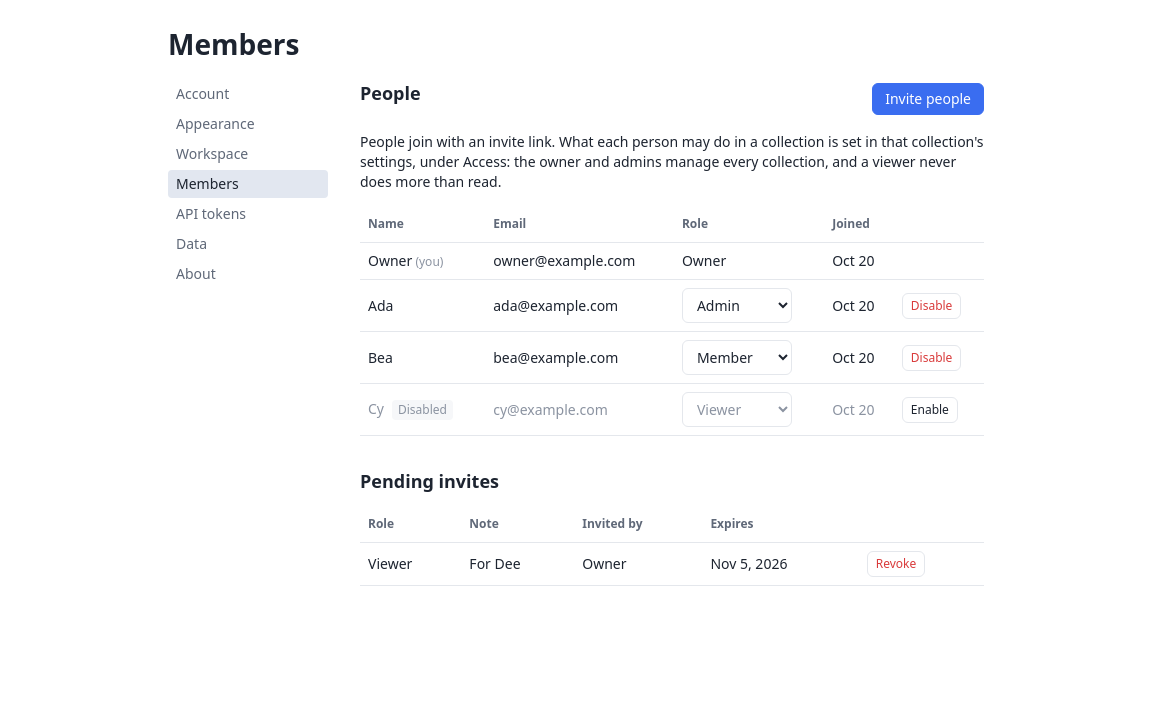
Test: Settings → Members › pending invites can be revoked after a confirmation
The width and height of the screenshot is (1152, 720).
Check: the row "For Dee" shows "Viewer", box [368,554,412,573]
Check: the row "For Dee" shows "Owner", box [582,554,627,573]
Click the button "Revoke".
click(896, 564)  # box [867,551,925,577]
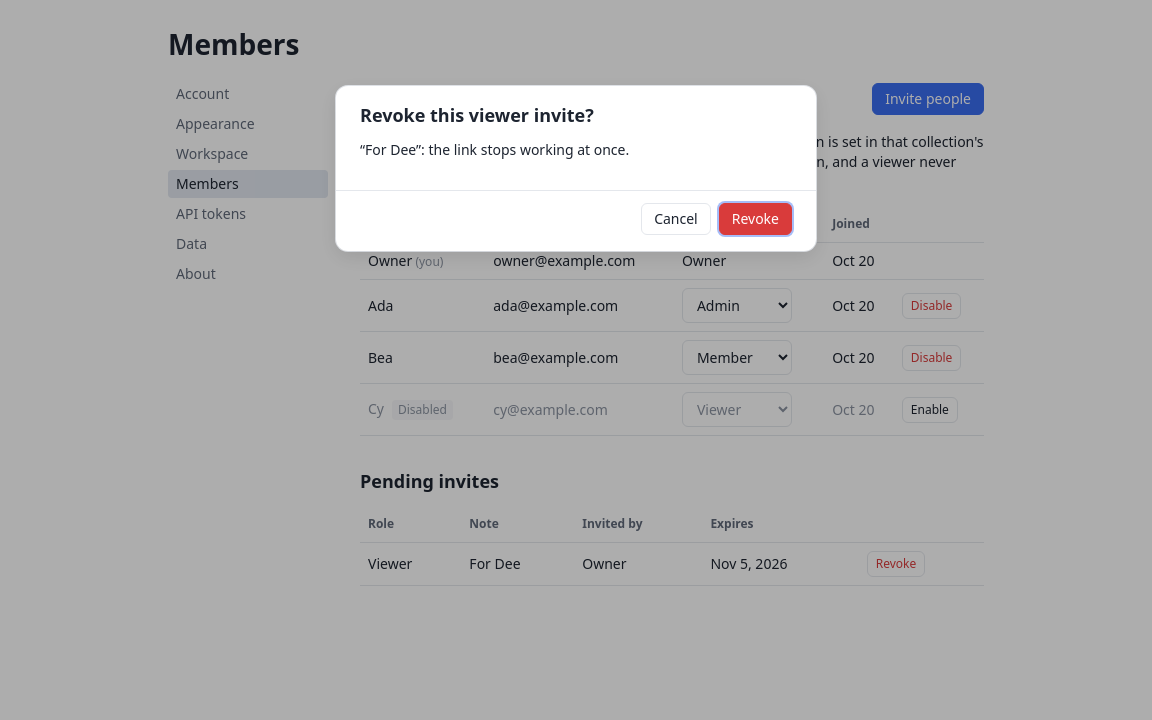
Click the button "Revoke".
click(755, 219)  # box [719,203,792,235]
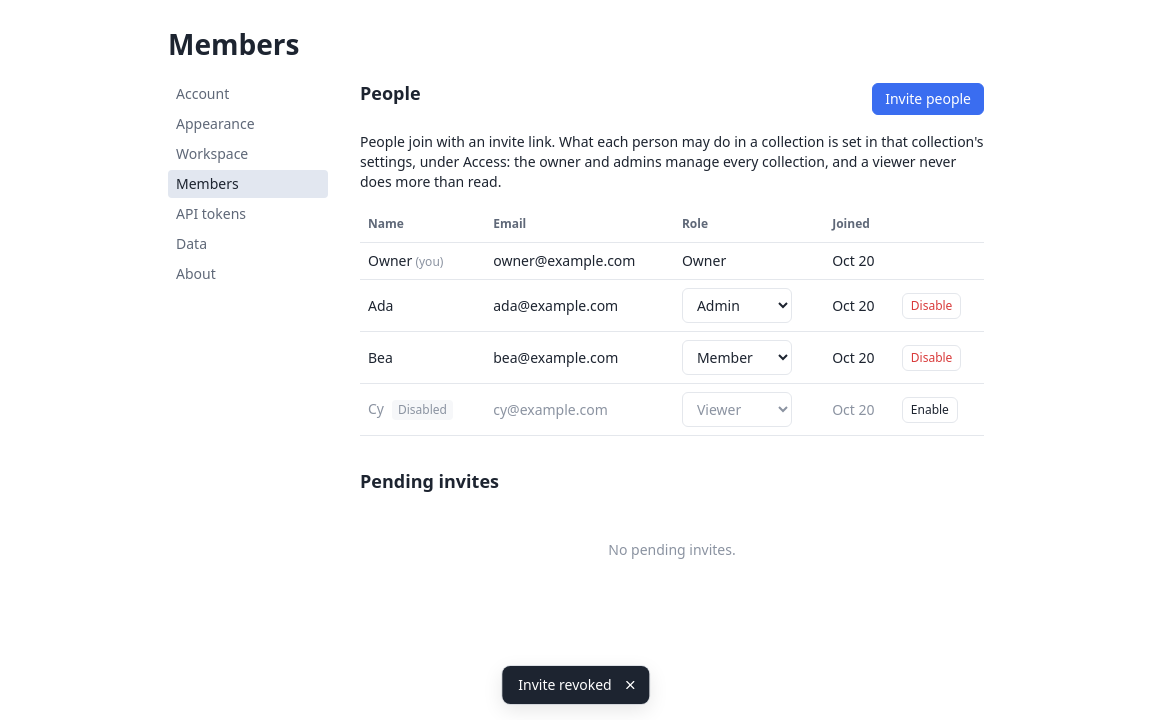
Check: the text "No pending invites." is shown, box [608,540,736,559]
